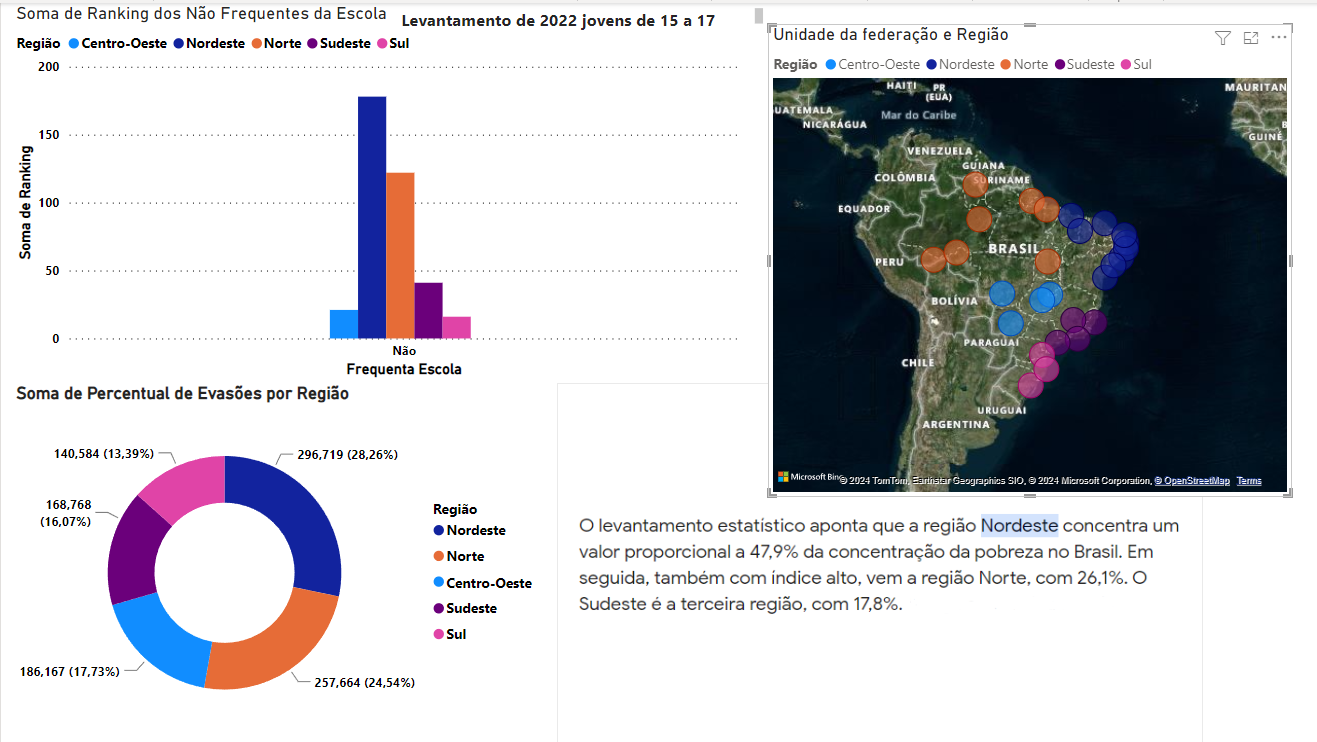

This screenshot's page, from the dashboard's own definition file:
{"tool":"powerbi","page":{"name":"Página 1","canvas":[1280,720],"ordinal":0},"visuals":[{"type":"clusteredColumnChart","title":"Soma de Ranking dos Não Frequentes da Escola ","fields":{"Y":["Sum(1_1_1_1 (1) 1.Ranking)"],"Category":["1_1_1_1 (1) 1.Frequenta Escola"],"Series":["1_1_1_1 (1) 1.Região"]},"box":[9.7,0,712.9,369.6],"z":0},{"type":"donutChart","fields":{"Y":["Sum(1_1_1_1 (1) 1.Percentual de Evasões)"],"Category":["1_1_1_1 (1) 1.Região","1_1_1_1 (1) 1.Frequenta Escola"]},"box":[9.7,369.6,521.3,350.2],"z":1000},{"type":"map","fields":{"Category":["1_1_1_1 (1) 1.Unidade da federação"],"Series":["1_1_1_1 (1) 1.Região"]},"box":[746,20.4,509.7,460.1],"z":2000},{"type":"image","box":[540.8,369.6,628.3,350.2],"z":3000}]}

Visuals, with their boxes in screenshot pixels (x1, y1, x2, y2), scaled from the page's 1280x720 canvas onto the 1317x742 screenshot:
"Soma de Ranking dos Não Frequentes da Escola " clusteredColumnChart: (10,0,743,381)
donutChart - Sum(1_1_1_1 (1) 1.Percentual de Evasões) x 1_1_1_1 (1) 1.Região: (10,381,546,741)
map - 1_1_1_1 (1) 1.Unidade da federação x 1_1_1_1 (1) 1.Região: (768,21,1292,495)
image: (556,381,1203,741)
